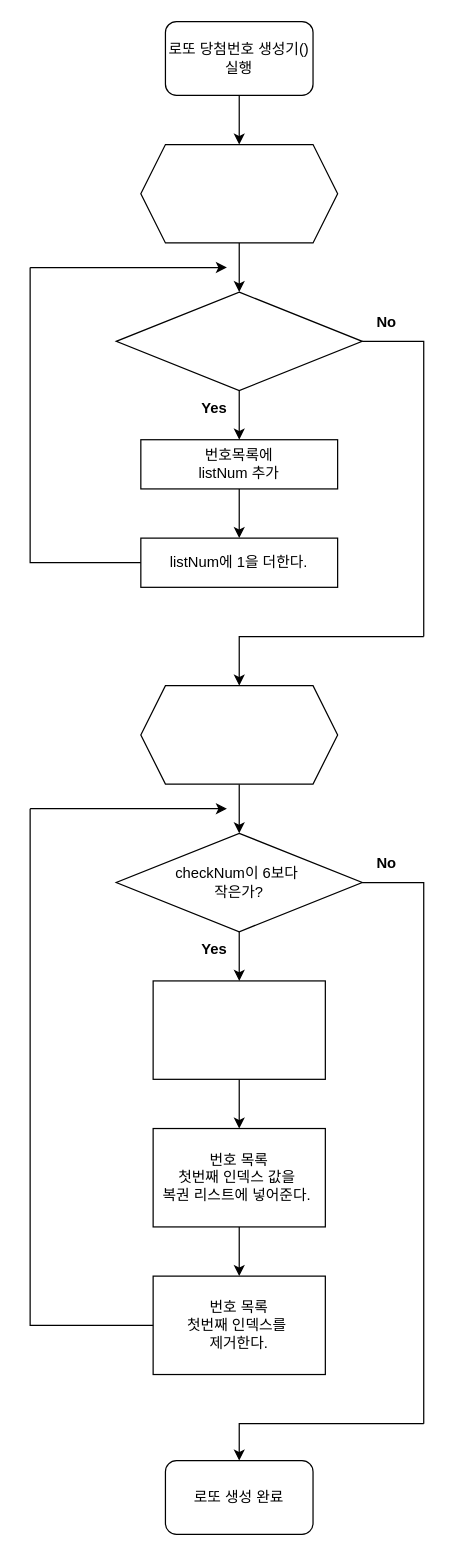
This 455x1556 diagram has some shape labels left out. Each missing label, with the box of its shape:
checkNum = 0: (140, 684, 338, 784)
listNum = 1: (140, 143, 338, 243)
listNum이 46보다 작은가?: (115, 291, 362, 391)
번호목록을 섞어준다. (shuffled): (152, 980, 325, 1079)
